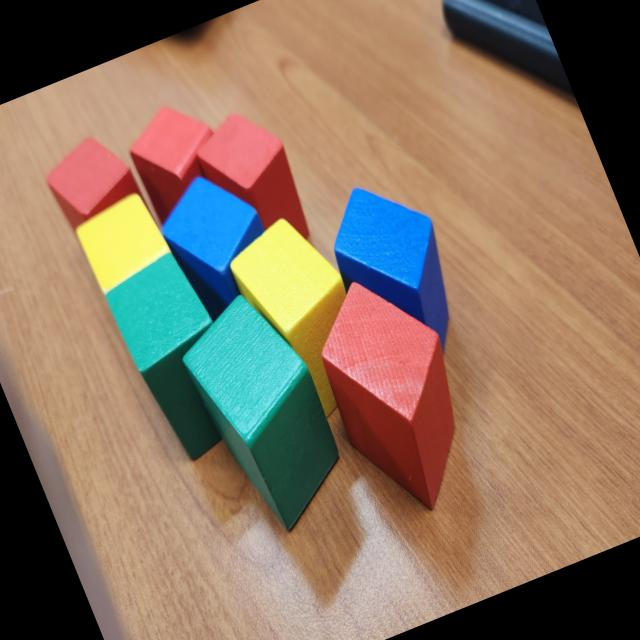blue: (312, 164, 482, 380), (146, 158, 292, 330)
green: (165, 278, 364, 546), (95, 244, 260, 471)
red: (292, 258, 498, 530), (184, 100, 320, 266), (116, 91, 240, 231), (35, 124, 147, 236)
yellow: (218, 204, 390, 434), (70, 190, 175, 296)
